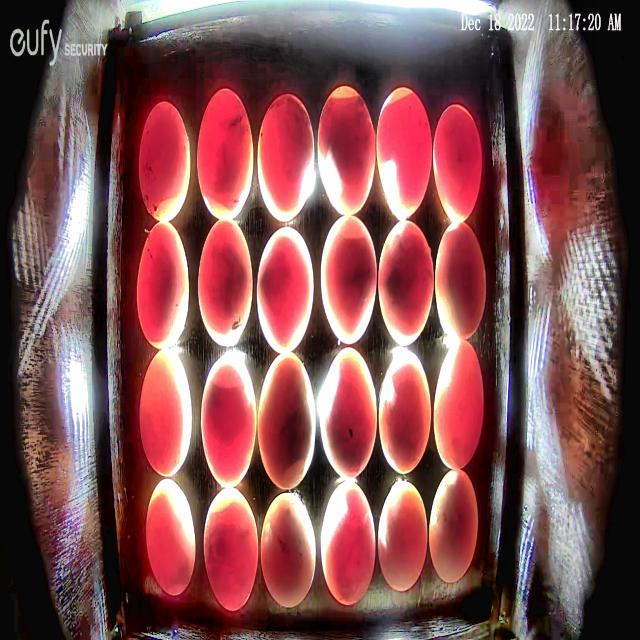FE: (257, 350, 317, 489), (318, 348, 378, 480), (202, 349, 258, 490), (317, 84, 376, 216), (197, 86, 254, 222), (319, 214, 377, 346), (256, 223, 316, 350), (256, 95, 315, 222), (377, 86, 432, 220), (378, 220, 435, 347), (197, 221, 254, 347), (320, 480, 376, 606), (135, 220, 189, 350), (139, 349, 193, 479), (203, 490, 260, 612), (432, 341, 485, 472), (379, 350, 432, 475), (137, 99, 190, 222), (260, 492, 316, 608), (144, 477, 196, 598), (434, 224, 486, 342), (428, 468, 479, 585), (377, 478, 427, 592), (434, 103, 481, 224)
